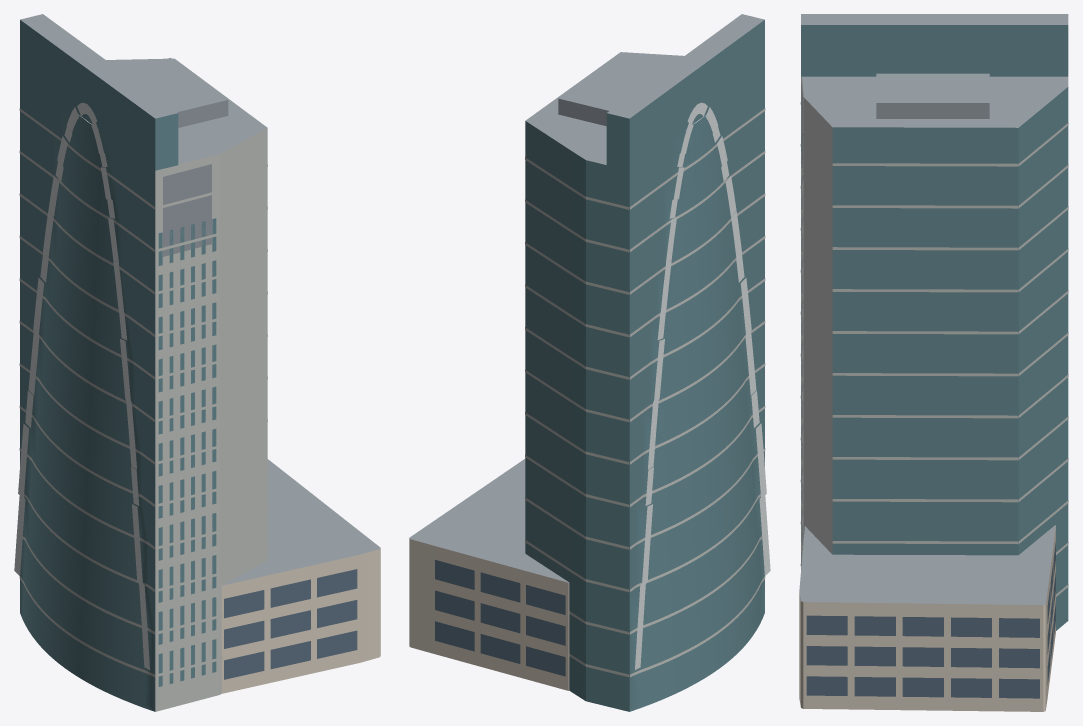
The model's file is mia-espirito-santo-plaza.glb.
3 renders of one model, left to right at view 1: azimuth 30°, elevation 25°; view 2: azimuth 150°, elevation 25°; view 3: azimuth 270°, elevation 25°, orthographic.
Visible parts, largest first — view 1: Espírito Santo Plaza; view 2: Espírito Santo Plaza; view 3: Espírito Santo Plaza.
Boxes of the visible parts, x1,y1,x2,y2 form: Espírito Santo Plaza: (14, 14, 380, 711); Espírito Santo Plaza: (409, 14, 770, 711); Espírito Santo Plaza: (799, 14, 1068, 711).
Bounding box in the file's own units: 66.81 × 148 × 61.71.
